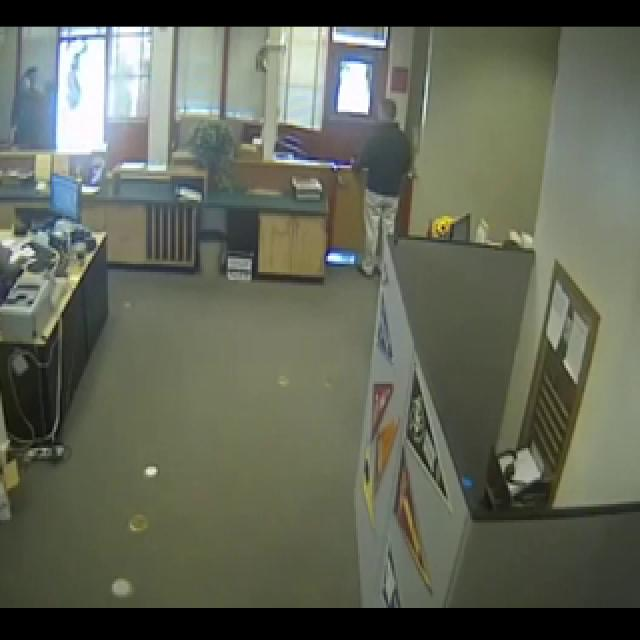arrest: (10, 31, 133, 288)
